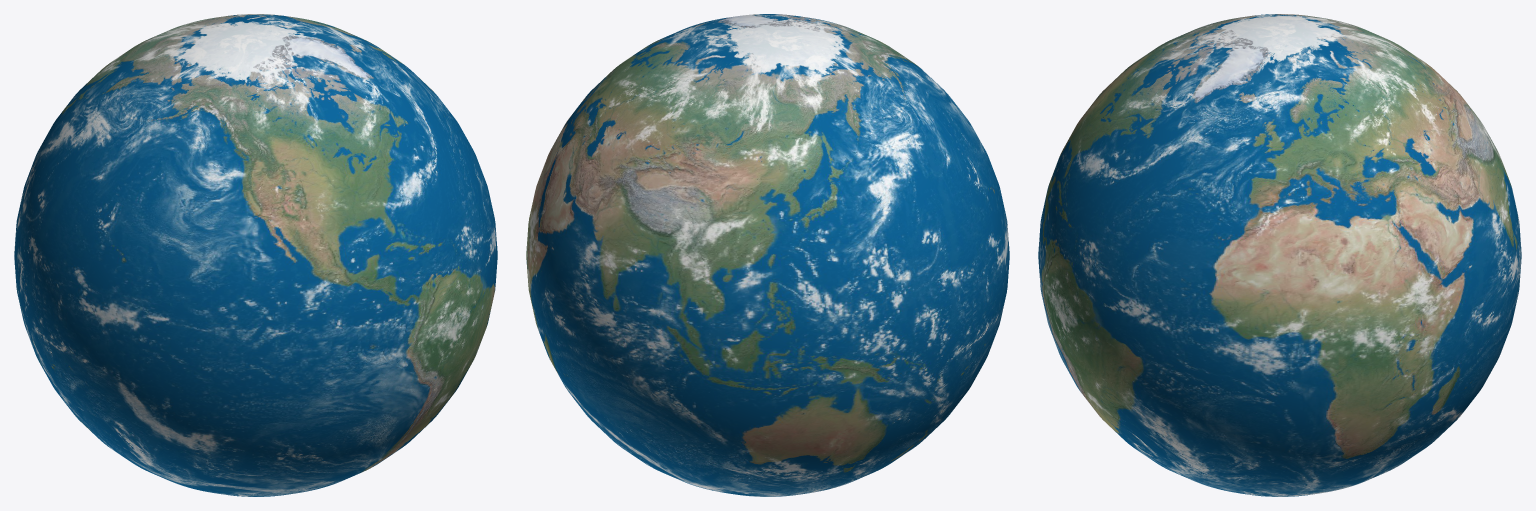
The model's file is earth.glb.
3 renders of one model, left to right at view 1: azimuth 30°, elevation 25°; view 2: azimuth 150°, elevation 25°; view 3: azimuth 270°, elevation 25°, orthographic.
Parts seen in each view (by area): view 1: Sphere; view 2: Sphere; view 3: Sphere.
Boxes of the visible parts, left/top/right/bottom form: Sphere: left=14, top=14, right=497, bottom=496; Sphere: left=526, top=14, right=1009, bottom=496; Sphere: left=1038, top=14, right=1521, bottom=496.
Bounding box in the file's own units: 0.8 × 0.8 × 0.8.
Materials: 1 (1 with a texture image).
